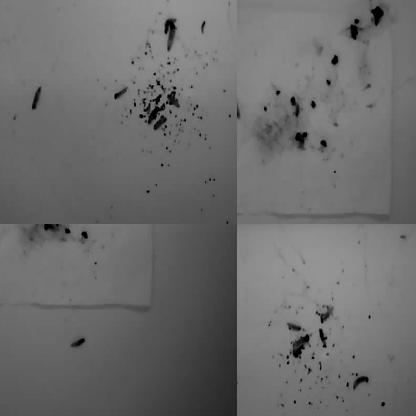PtecticusTenebrifer: (292, 334, 310, 352), (31, 86, 43, 112), (352, 374, 370, 391), (319, 307, 335, 324), (146, 107, 160, 126), (167, 22, 175, 53), (168, 92, 181, 110), (164, 16, 177, 33), (318, 328, 328, 348), (68, 337, 86, 348), (114, 86, 128, 100), (153, 118, 169, 130), (286, 321, 302, 333), (237, 98, 243, 123), (293, 100, 301, 117), (107, 0, 122, 9), (378, 0, 389, 11), (353, 0, 368, 8), (251, 224, 271, 230), (385, 224, 402, 231), (365, 0, 379, 8), (72, 224, 82, 234), (325, 224, 334, 234), (28, 0, 45, 5), (397, 224, 413, 229), (332, 0, 347, 5), (201, 18, 206, 32), (0, 246, 3, 268), (237, 107, 240, 128), (237, 148, 243, 158), (0, 224, 6, 233), (0, 224, 5, 233), (0, 224, 10, 228), (237, 224, 244, 229)
